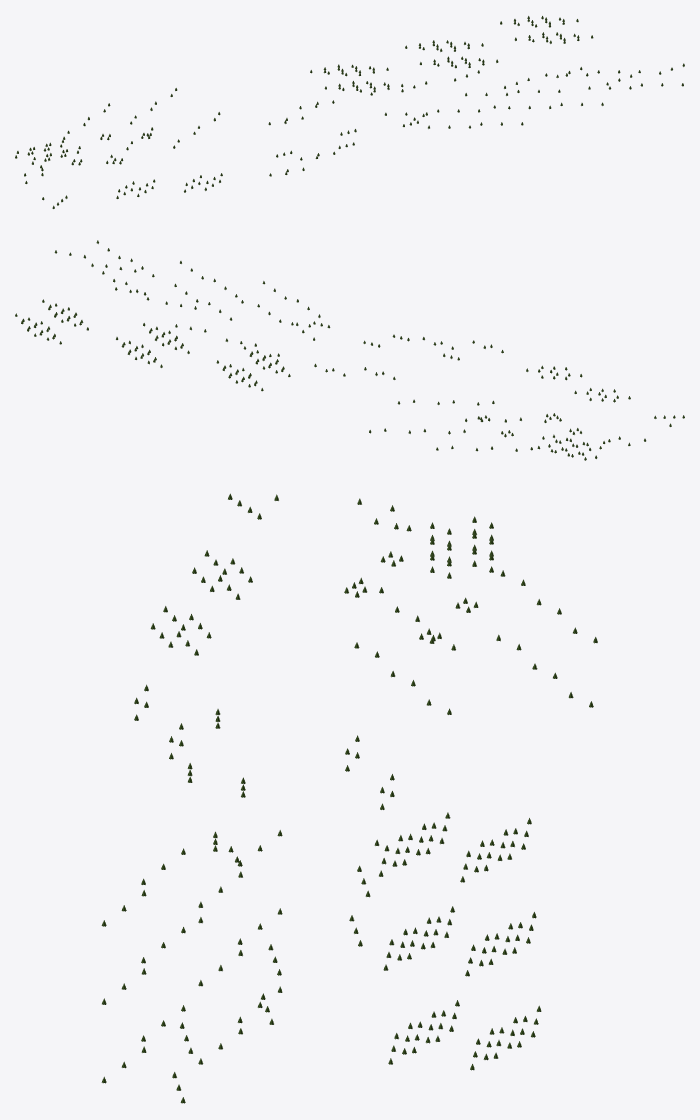
The model's file is tree_forest.obj.
3 views of the same model, one above another, from view 1: azimuth 30°, elevation 25°; view 2: azimuth 150°, elevation 25°; view 3: azimuth 270°, elevation 25° (orthographic). The views are drawn at different scales.
Parts seen in each view (by area): view 1: Plane.006_Plane.015_Plane.006_Plane.017; view 2: Plane.006_Plane.015_Plane.006_Plane.017; view 3: Plane.006_Plane.015_Plane.006_Plane.017.
Boxes of the visible parts, x1,y1,x2,y2 form: Plane.006_Plane.015_Plane.006_Plane.017: (310,16,593,92); Plane.006_Plane.015_Plane.006_Plane.017: (15,299,290,391); Plane.006_Plane.015_Plane.006_Plane.017: (379,812,541,1070).
Size of the model in its own units: 524 by 3.33 by 182.
Materials: 4 (4 with a texture image).
